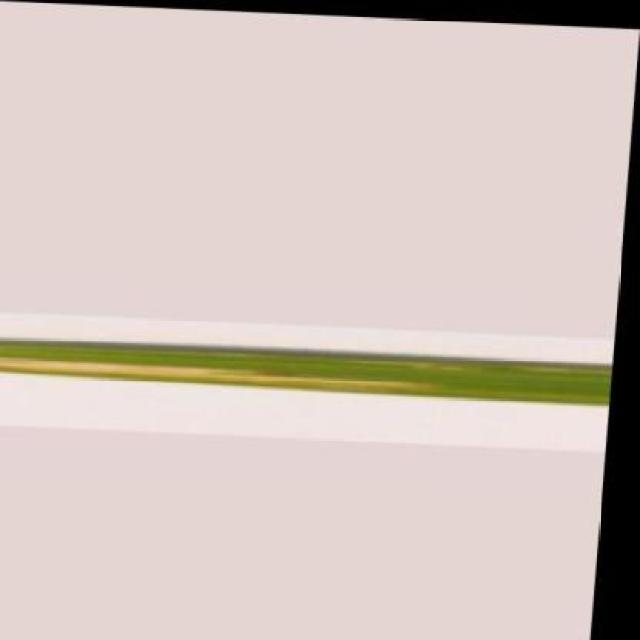Brown_Spot: (0, 327, 618, 403)
